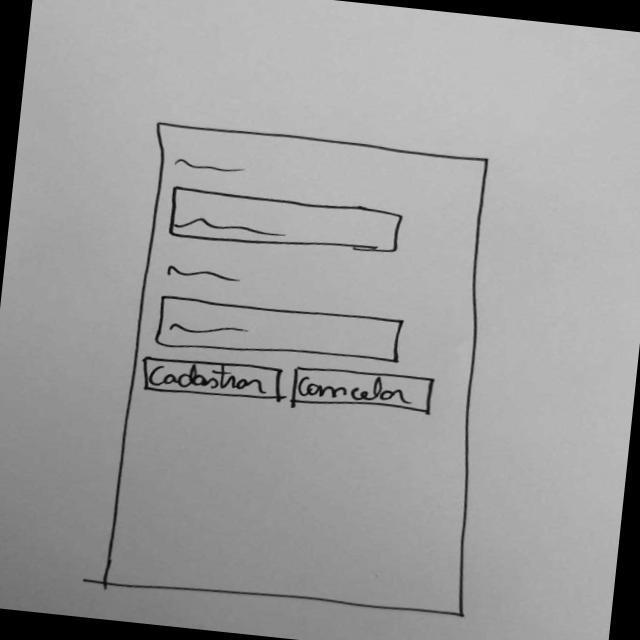button: (288, 364, 442, 421), (140, 353, 289, 408)
container: (90, 118, 516, 629)
input: (153, 293, 410, 375), (165, 184, 410, 262)
text: (170, 153, 256, 182), (164, 265, 245, 286)
